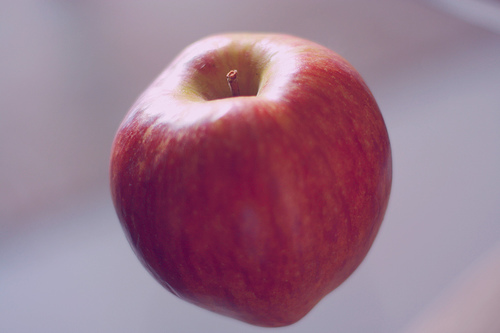apple: (109, 31, 393, 325)
